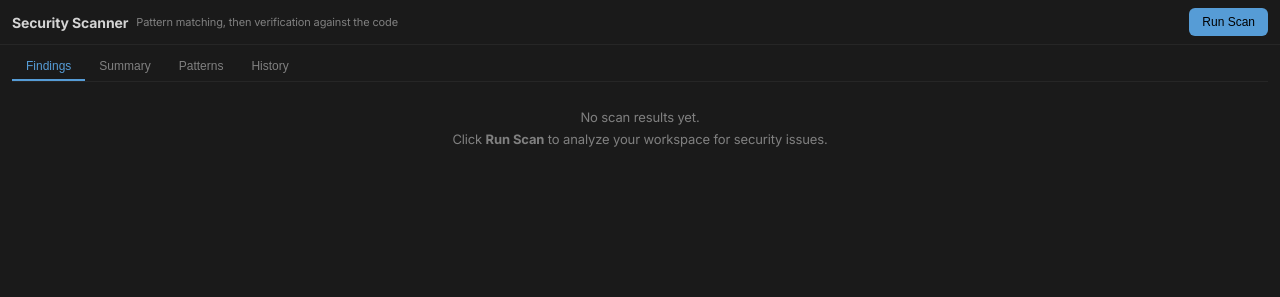
SecurityScanPanel — Fix with AI › confirms the request reached chat
Click the button "Run Scan". click: (1229, 22)
box: [1189, 8, 1268, 36]
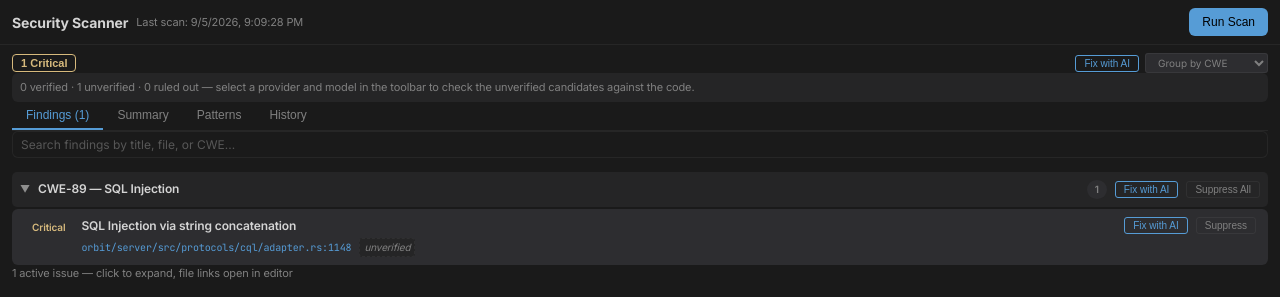
Result: the text "SQL Injection via string concatenation" is shown at [81, 218, 296, 232]
Click the 1st button "Fix with AI". click: (1107, 63)
box: [1075, 54, 1139, 72]
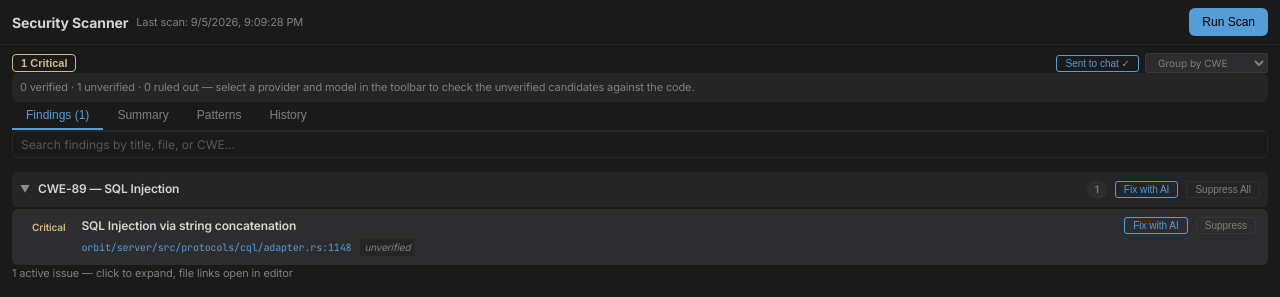
Result: the button "Sent to chat ✓" is shown at [1056, 54, 1139, 72]
